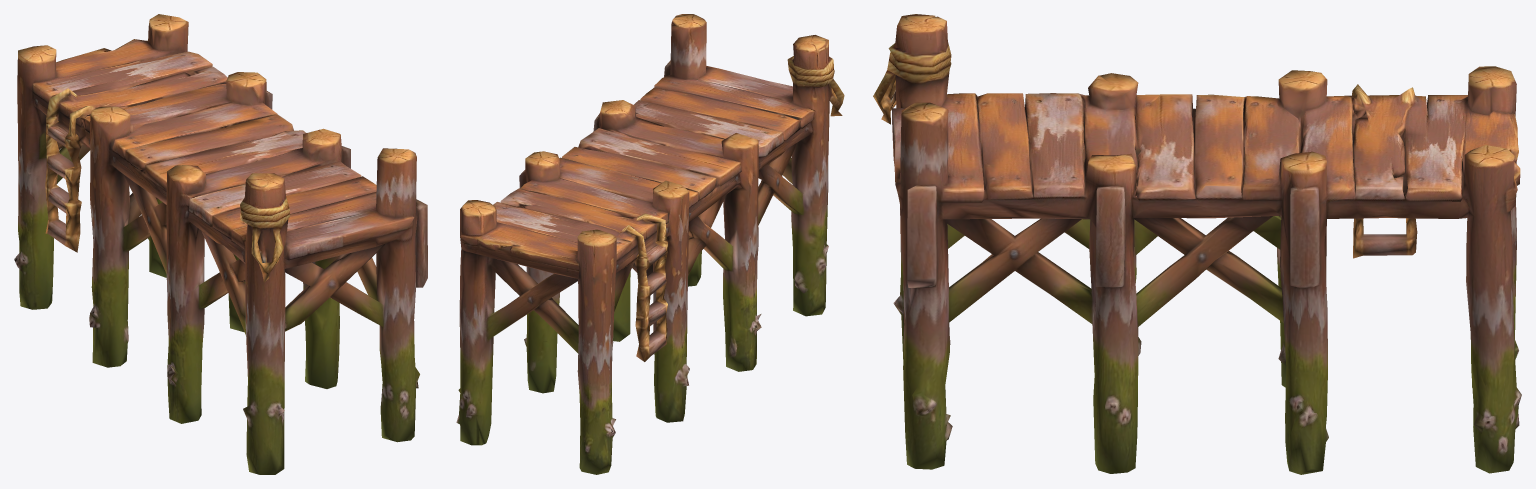
Rendered from jetty.glb.
3 views of the same model, side by side, from view 1: azimuth 30°, elevation 25°; view 2: azimuth 150°, elevation 25°; view 3: azimuth 270°, elevation 25° (orthographic). The views are drawn at different scales.
Visible parts, largest first — view 1: tripo_node_5219a80f-1a62-4c4f-936c-833e0a582622; view 2: tripo_node_5219a80f-1a62-4c4f-936c-833e0a582622; view 3: tripo_node_5219a80f-1a62-4c4f-936c-833e0a582622.
Part boxes in pixels (box(x1,y1,x2,y2)): tripo_node_5219a80f-1a62-4c4f-936c-833e0a582622: box(14, 14, 427, 474); tripo_node_5219a80f-1a62-4c4f-936c-833e0a582622: box(456, 14, 844, 474); tripo_node_5219a80f-1a62-4c4f-936c-833e0a582622: box(873, 14, 1521, 474).
Size of the model in its own units: 2.39 by 3.7 by 6.
Materials: 1 (1 with a texture image).
